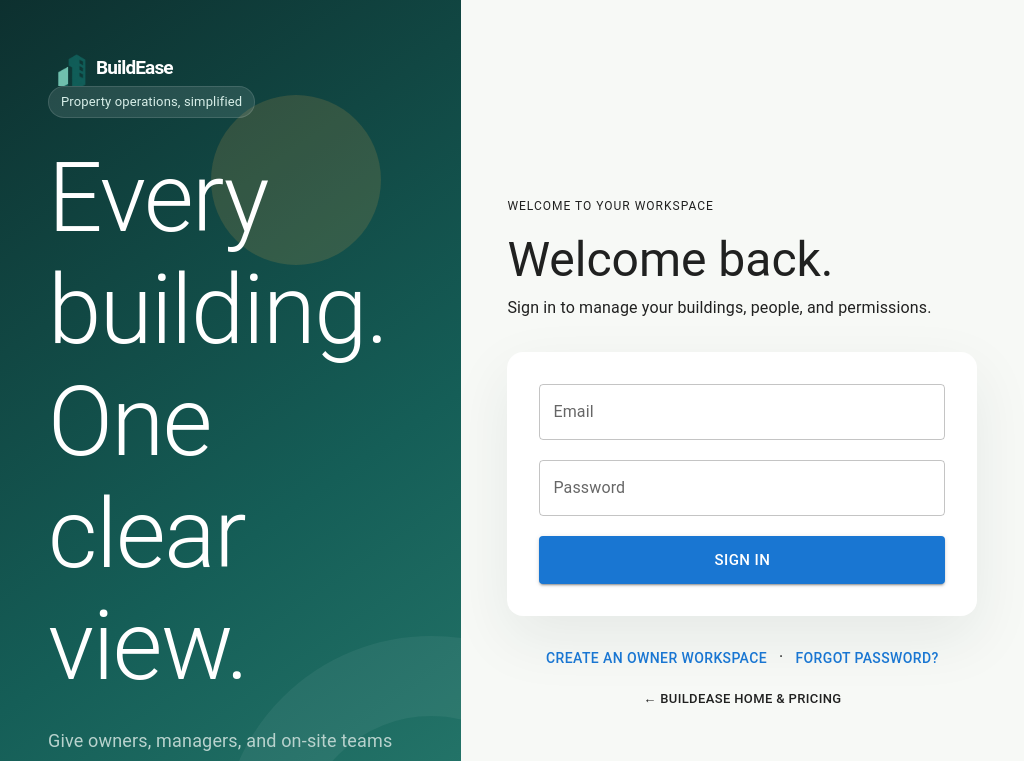
Scenario: renders an accessible login form and shows server errors without password disclosure
The image size is (1024, 761).
Type "user@example.test" into the field labelled "Email". click: (742, 412)
box: [539, 384, 945, 440]
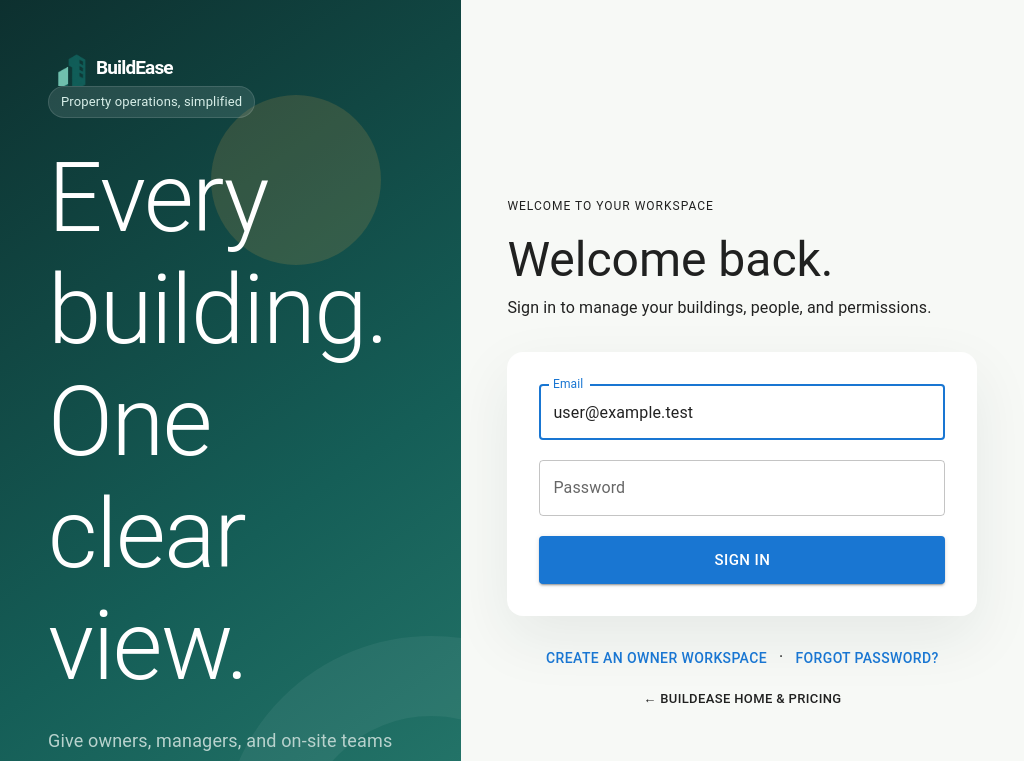
Type "private password" into the password field labelled "Password". click: (742, 488)
box: [539, 460, 945, 516]
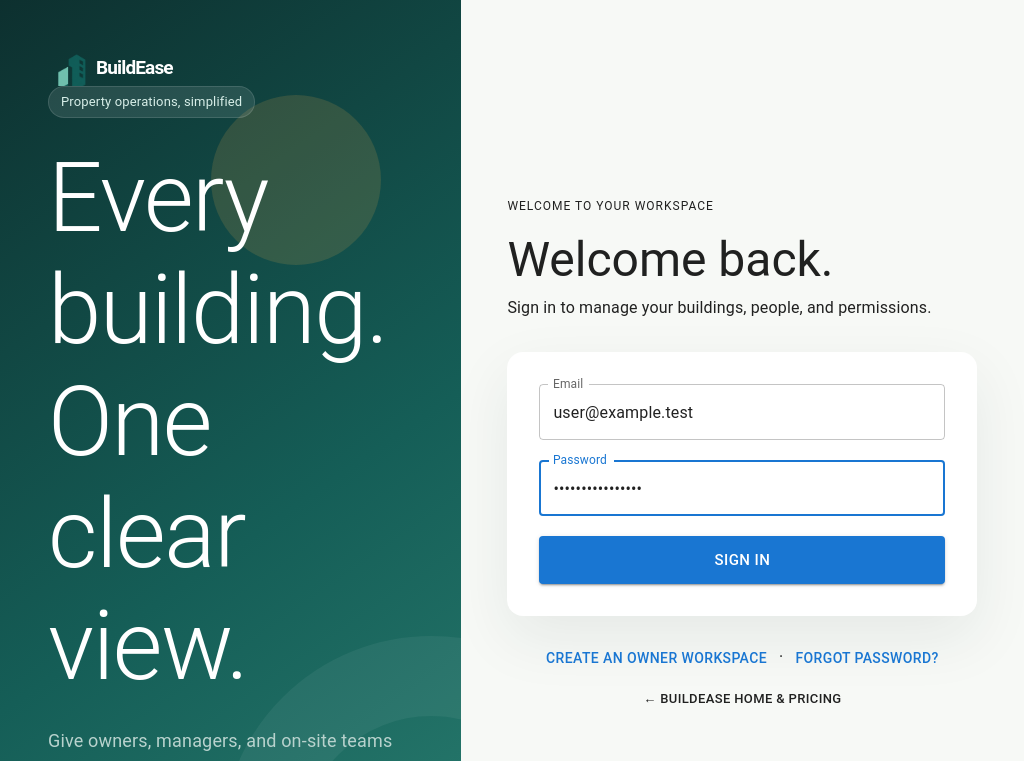
Click the button "Sign in". click: (742, 560)
box: [539, 536, 945, 584]
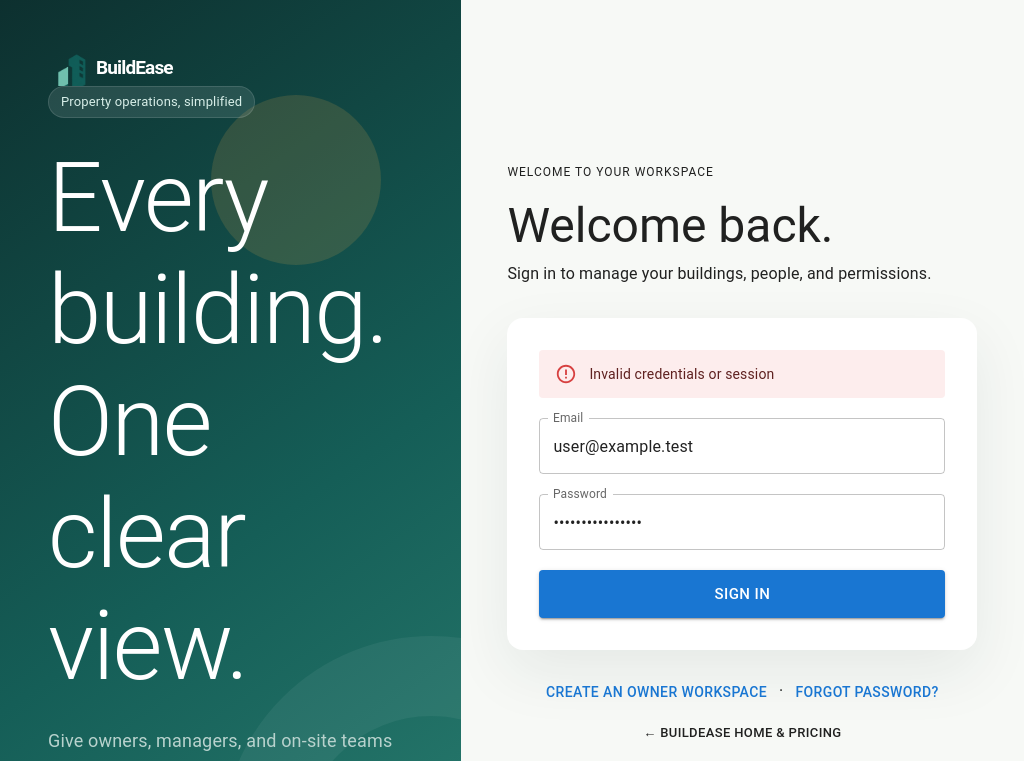
Check: the message reads "Invalid credentials or session", box [589, 366, 774, 382]
